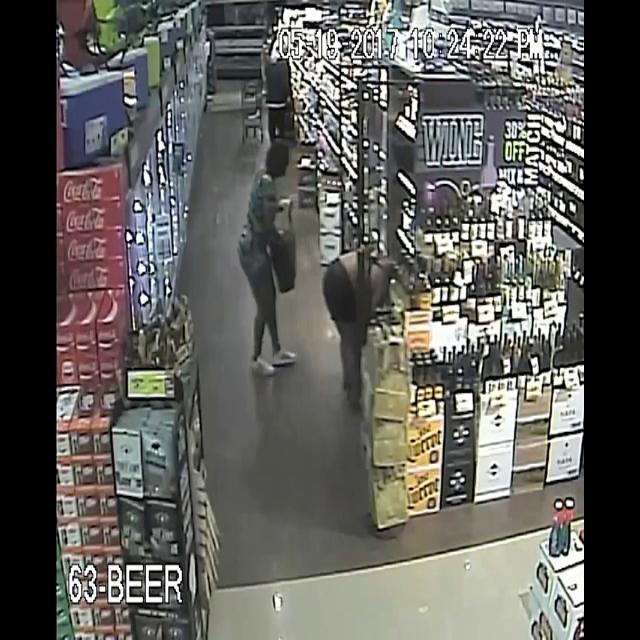normal: (324, 232, 406, 396), (255, 33, 305, 135)
shoplifting: (228, 127, 307, 407)
